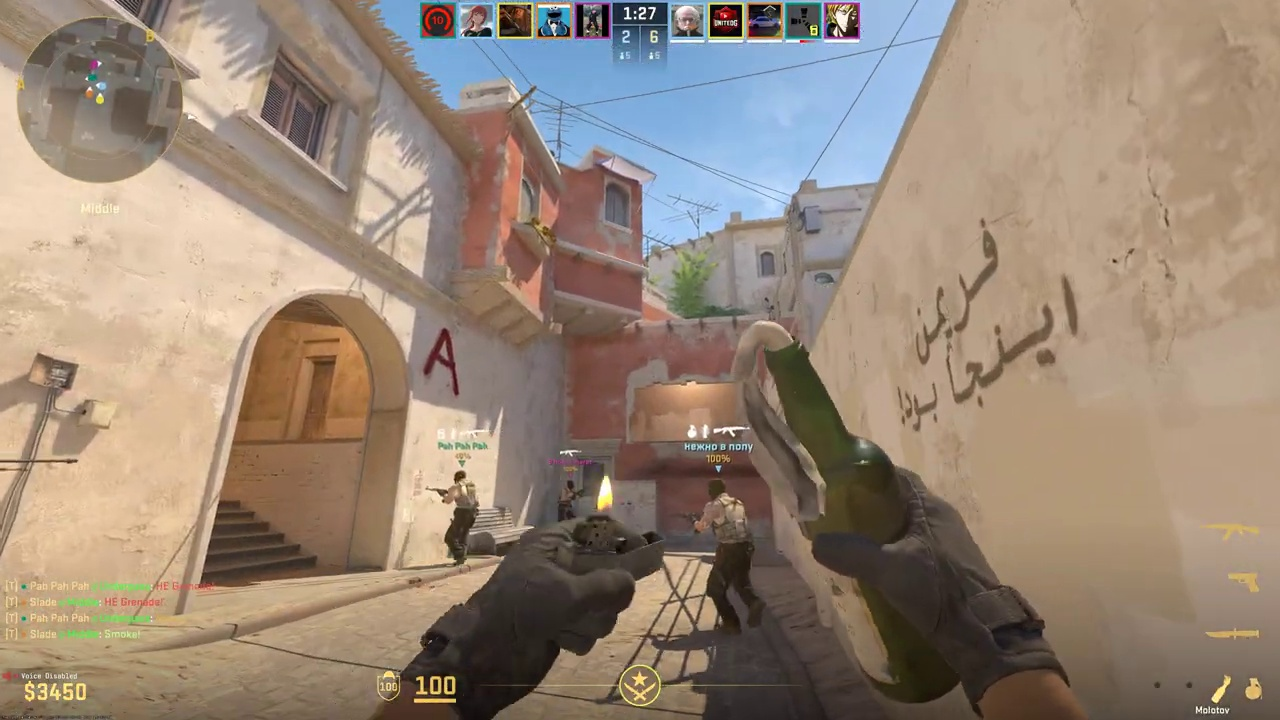Terrorist: (699, 478, 758, 635), (442, 470, 477, 565), (558, 481, 578, 523)
